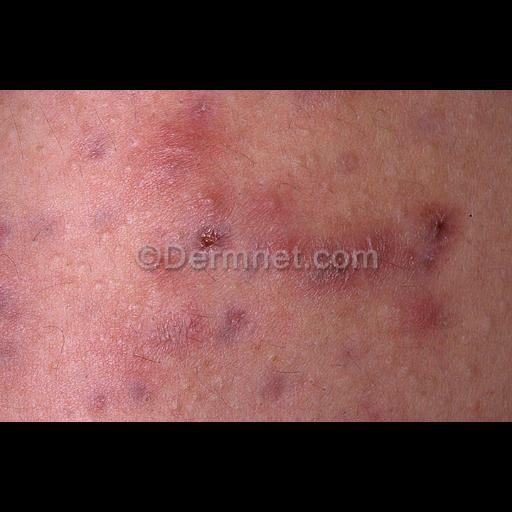Skin_Lesion: (114, 116, 230, 218), (286, 219, 390, 301), (152, 302, 256, 368), (82, 378, 152, 410), (417, 201, 459, 253), (190, 220, 234, 264), (414, 293, 446, 339)
